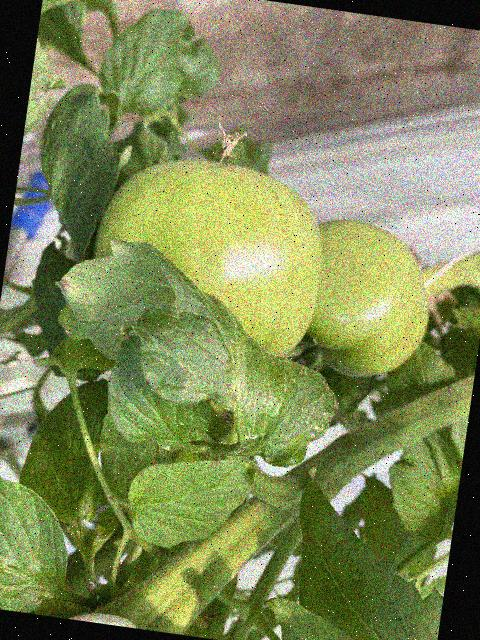b_green: (81, 146, 335, 362), (293, 215, 441, 385)
